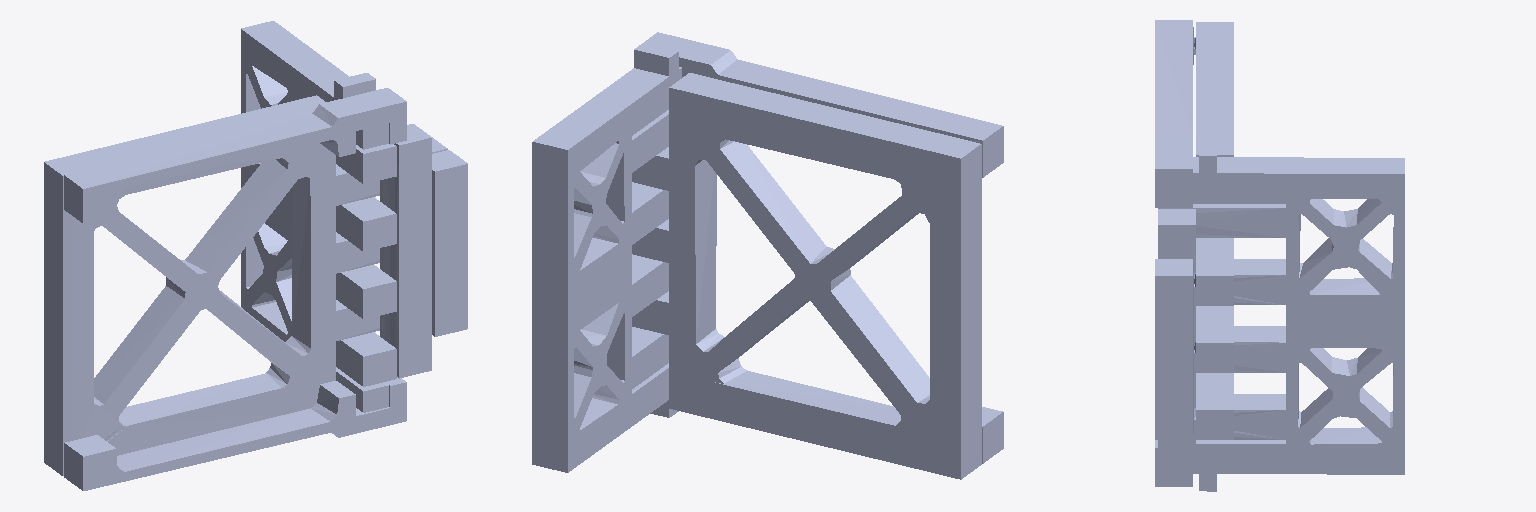
URDF robot description (hinge_assem):
<?xml version="1.0" encoding="utf-8"?>
<!-- This URDF was automatically created by SolidWorks to URDF Exporter! Originally created by [author] ([email redacted]) 
     Commit Version: 1.6.0-4-g7f85cfe  Build Version: 1.6.7995.38578
     For more information, please see http://wiki.ros.org/sw_urdf_exporter -->
<robot
  name="hinge_assem">
  <link
    name="hinge_b">
    <inertial>
      <origin
        xyz="0.00678351290342848 0.0068675823323398 0.00683589318687806"
        rpy="0 0 0" />
      <mass
        value="3.96840879043448E-09" />
      <inertia
        ixx="5.57015376752821E-17"
        ixy="-3.42135113365659E-19"
        ixz="-2.39931358535603E-18"
        iyy="8.54838038238452E-17"
        iyz="-8.4520912321861E-20"
        izz="1.37513314168561E-16" />
    </inertial>
    <visual>
      <origin
        xyz="0 0 0"
        rpy="0 0 0" />
      <geometry>
        <mesh
          filename="package://hinge_assem/meshes/hinge_b.STL" />
      </geometry>
      <material
        name="">
        <color
          rgba="0.792156862745098 0.819607843137255 0.933333333333333 1" />
      </material>
    </visual>
    <collision>
      <origin
        xyz="0 0 0"
        rpy="0 0 0" />
      <geometry>
        <mesh
          filename="package://hinge_assem/meshes/hinge_b.STL" />
      </geometry>
    </collision>
  </link>
  <link
    name="hinge_f">
    <inertial>
      <origin
        xyz="0.00681294364582006 -0.00667393012237625 -0.00697199201293916"
        rpy="0 0 0" />
      <mass
        value="2.82631947230041E-09" />
      <inertia
        ixx="3.31216404642102E-17"
        ixy="1.47095711919682E-19"
        ixz="1.79529470410642E-18"
        iyy="1.94627974514953E-17"
        iyz="-7.82478462201055E-21"
        izz="5.04780296263065E-17" />
    </inertial>
    <visual>
      <origin
        xyz="0 0 0"
        rpy="0 0 0" />
      <geometry>
        <mesh
          filename="package://hinge_assem/meshes/hinge_f.STL" />
      </geometry>
      <material
        name="">
        <color
          rgba="0.792156862745098 0.819607843137255 0.933333333333333 1" />
      </material>
    </visual>
    <collision>
      <origin
        xyz="0 0 0"
        rpy="0 0 0" />
      <geometry>
        <mesh
          filename="package://hinge_assem/meshes/hinge_f.STL" />
      </geometry>
    </collision>
  </link>
  <joint
    name="rev_hinge"
    type="revolute">
    <origin
      xyz="0.0069395 -0.0068461 0.0066739"
      rpy="1.5708 0 1.566" />
    <parent
      link="hinge_b" />
    <child
      link="hinge_f" />
    <axis
      xyz="0 1 0" />
    <limit
      lower="0"
      upper="1.5708"
      effort="0"
      velocity="0" />
  </joint>
</robot>

--- Facts derived from the render (not from the file) ---
Views: 3 orthographic renders of the robot side by side, from view 1: azimuth 30°, elevation 25°; view 2: azimuth 150°, elevation 25°; view 3: azimuth 270°, elevation 25°.
Model hinge_assem with 2 links and 1 joints (1 revolute), rooted at hinge_b, posed all joints at 0.
Links seen in each view (by area): view 1: hinge_b, hinge_f; view 2: hinge_b, hinge_f; view 3: hinge_f, hinge_b.
Boxes of the visible links, <box> form: hinge_b: <box>44,88,467,490</box>; hinge_f: <box>241,21,431,412</box>; hinge_b: <box>632,32,1003,479</box>; hinge_f: <box>532,42,682,472</box>; hinge_f: <box>1158,140,1404,491</box>; hinge_b: <box>1155,20,1233,486</box>.
Bounding box of the posed robot: 0.0005 × 0.0003 × 0.0004 m (x, y, z).
2 mesh visuals loaded from 2 distinct referenced files (2 binary STL).